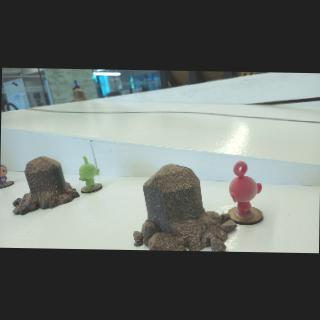teletubby: (229, 161, 261, 217), (79, 156, 99, 188)
